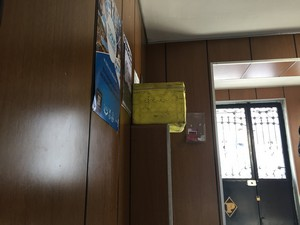cube: (129, 81, 187, 136)
